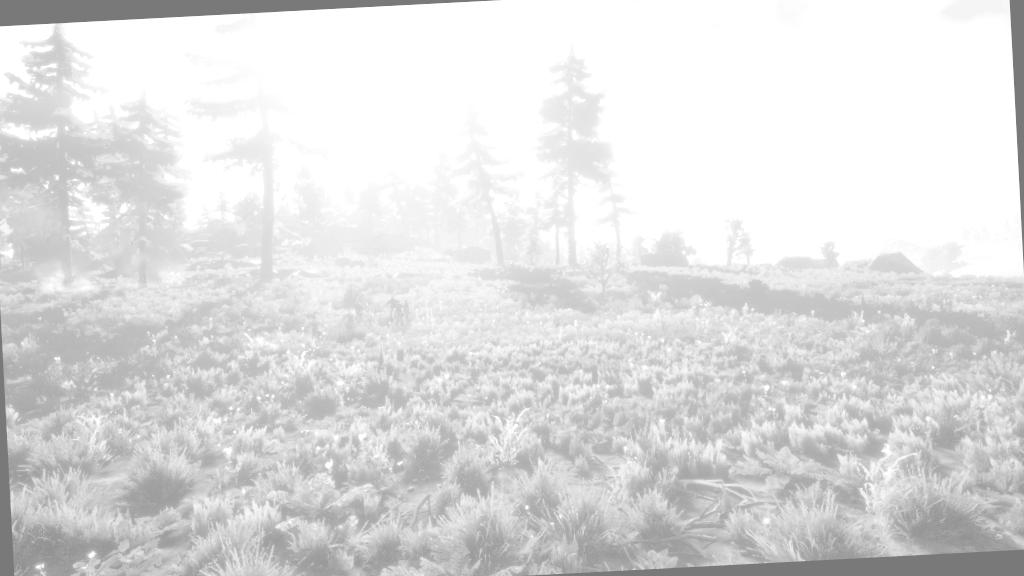Fire: (34, 257, 95, 295), (122, 259, 186, 291)
human: (382, 292, 423, 337), (336, 298, 372, 338), (300, 311, 331, 347)
smoke: (12, 205, 68, 256), (135, 218, 186, 257)
